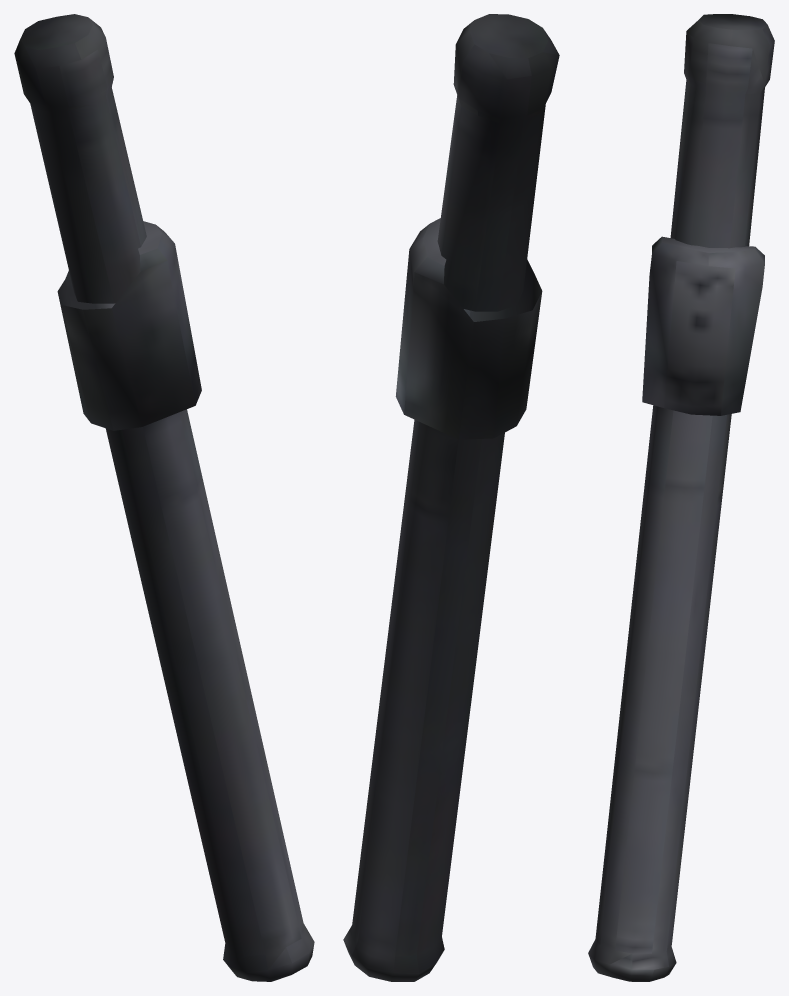
The model's file is prota.baton.v3.glb.
3 renders of one model, left to right at view 1: azimuth 30°, elevation 25°; view 2: azimuth 150°, elevation 25°; view 3: azimuth 270°, elevation 25°, orthographic. The views are drawn at different scales.
Parts seen in each view (by area): view 1: Prota_Baton_Tex; view 2: Prota_Baton_Tex; view 3: Prota_Baton_Tex.
Boxes of the visible parts, x1=… form: Prota_Baton_Tex: x1=14, y1=14, x2=314, y2=981; Prota_Baton_Tex: x1=343, y1=14, x2=559, y2=981; Prota_Baton_Tex: x1=588, y1=14, x2=774, y2=981.
Bounding box in the file's own units: 0.0873 × 0.3319 × 0.0632.
Materials: 1 (1 with a texture image).
